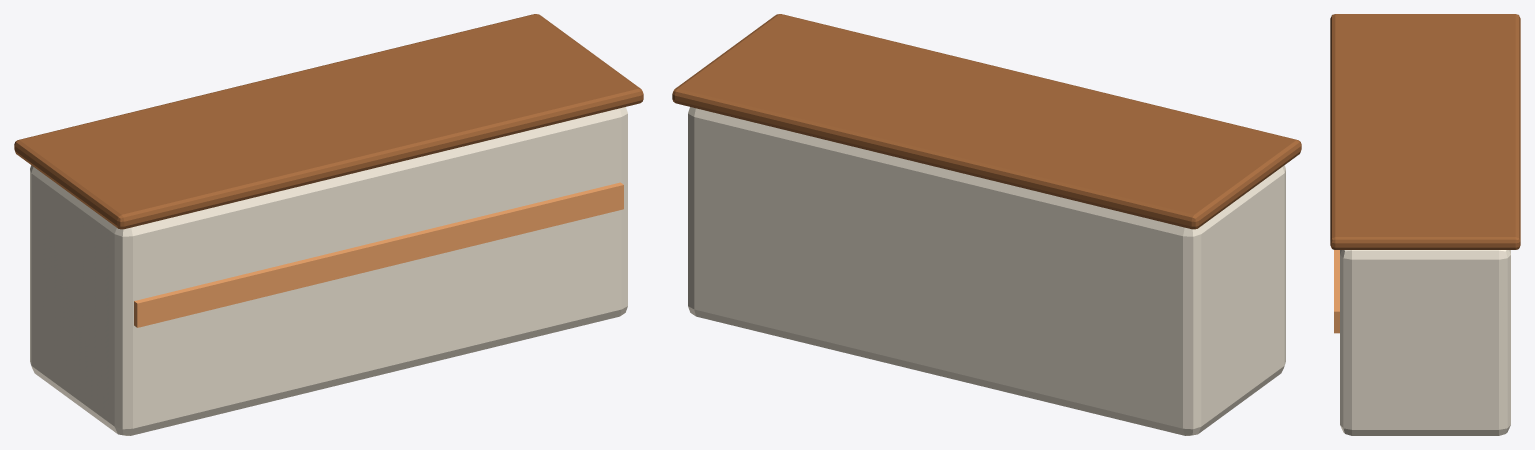
File: int_konter.fbx
The picture shows the model from 3 angles, left to right: view 1: azimuth 30°, elevation 25°; view 2: azimuth 150°, elevation 25°; view 3: azimuth 270°, elevation 25°; orthographic projection. The views are drawn at different scales.
Visible parts, largest first — view 1: int_konter; view 2: int_konter; view 3: int_konter.
Part boxes in pixels (left/top/right/bottom): int_konter: left=14, top=14, right=643, bottom=435; int_konter: left=672, top=14, right=1301, bottom=435; int_konter: left=1330, top=14, right=1520, bottom=435.
Size of the model in its own units: 226 by 95 by 80.
1 material, 1 textured.
